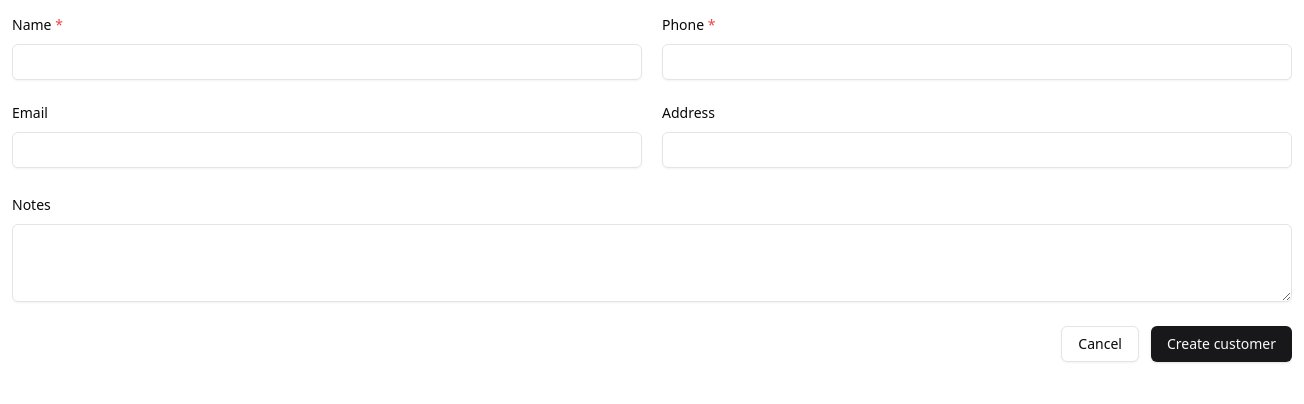
Test: CustomerForm › shows validation errors when required fields are empty
Click the button "Create customer": (1221, 344) [1151,326,1292,362]
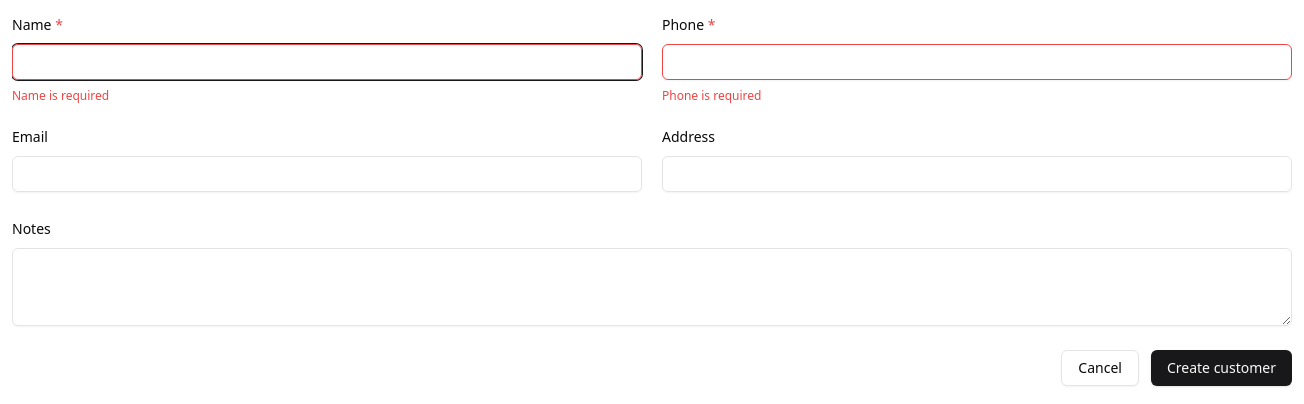
Check: the text "Name is required" is shown, box [12,87,109,104]
Check: the text "Phone is required" is shown, box [662,87,762,104]
